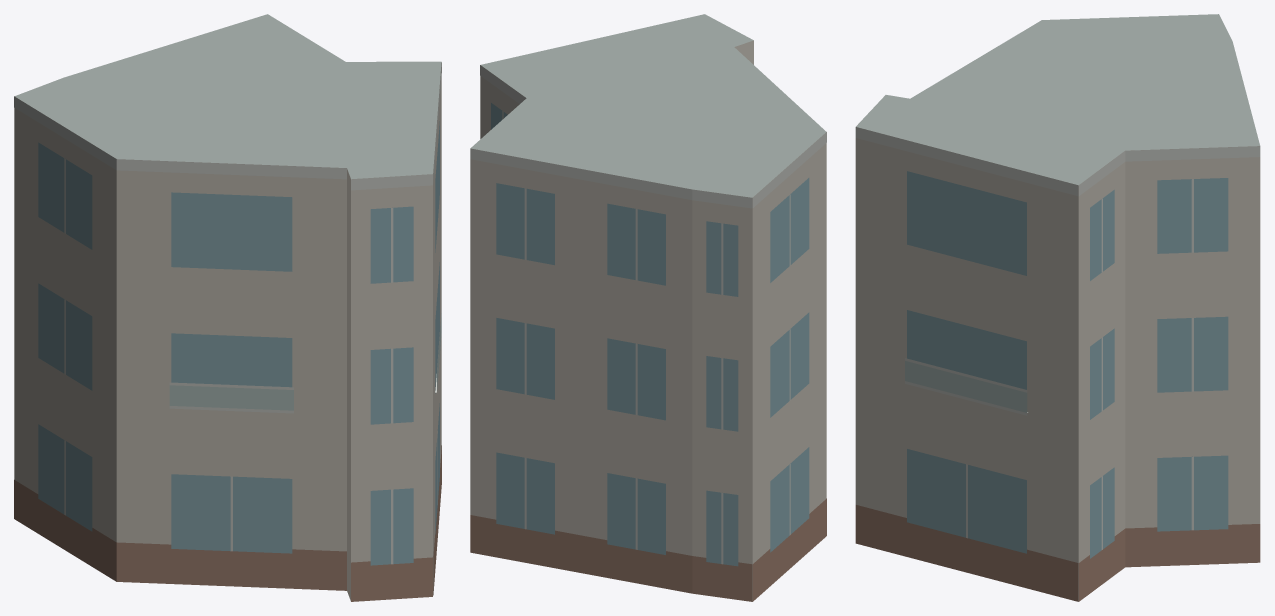
The model's file is survey-upis-33009333.glb.
3 views of the same model, side by side, from view 1: azimuth 30°, elevation 25°; view 2: azimuth 150°, elevation 25°; view 3: azimuth 270°, elevation 25° (orthographic). The views are drawn at different scales.
Parts seen in each view (by area): view 1: survey-upis-33009333.tmp; view 2: survey-upis-33009333.tmp; view 3: survey-upis-33009333.tmp.
Part boxes in pixels (x1,y1,x2,y2): survey-upis-33009333.tmp: (14, 14, 441, 601); survey-upis-33009333.tmp: (470, 14, 826, 601); survey-upis-33009333.tmp: (855, 14, 1260, 601).
Bounding box in the file's own units: 8.08 × 9.15 × 8.07.
